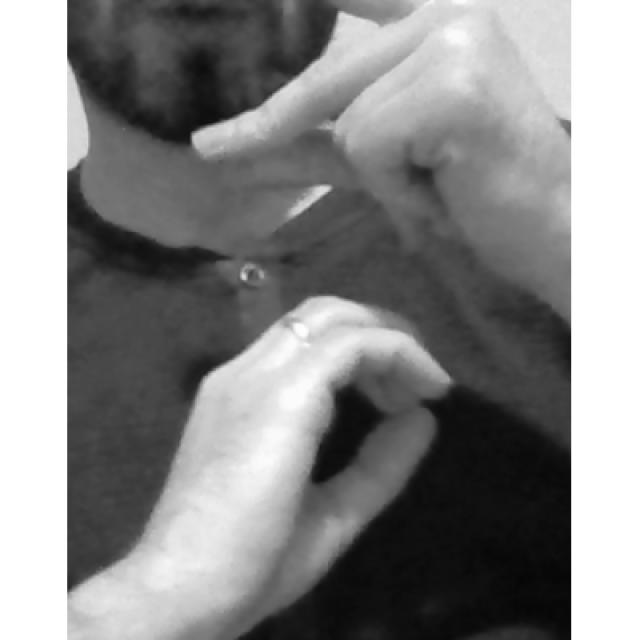O--: (135, 0, 571, 640)
